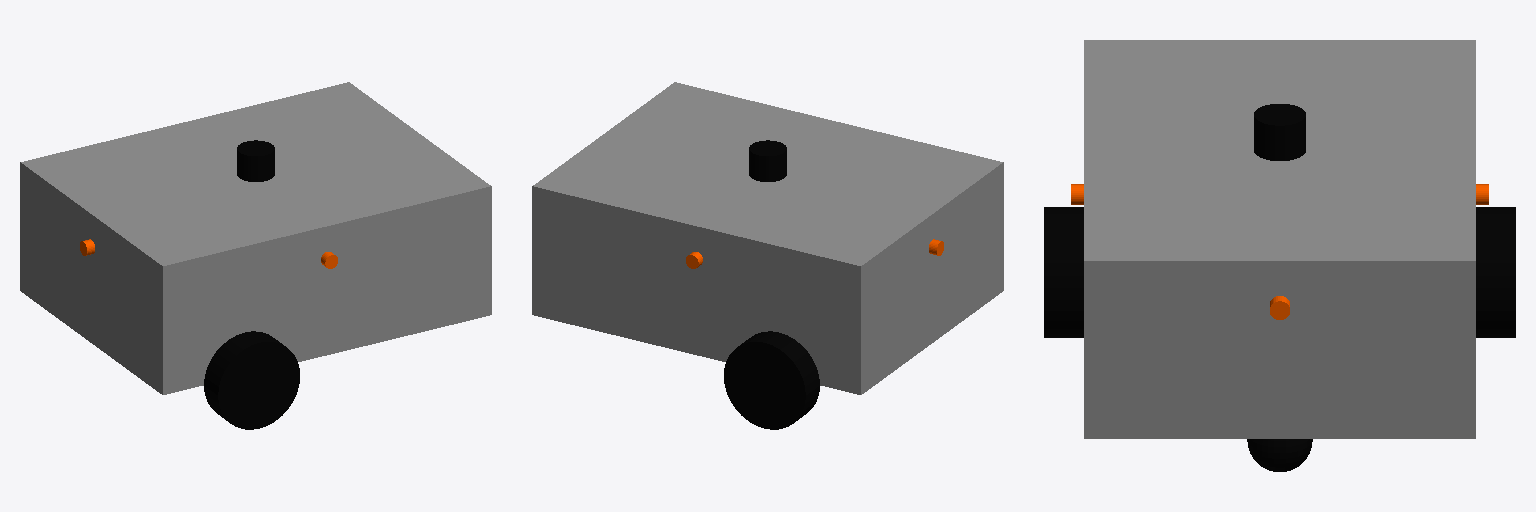
URDF robot description (ultrasonic_box_bot):
<?xml version="1.0" ?>
<!-- =================================================================================== -->
<!-- |    This document was autogenerated by xacro from ultrasonic_box_bot.urdf.xacro  | -->
<!-- |    EDITING THIS FILE BY HAND IS NOT RECOMMENDED                                 | -->
<!-- =================================================================================== -->
<robot name="ultrasonic_box_bot">
  <material name="grey">
    <color rgba="0.6 0.6 0.6 1.0"/>
  </material>
  <material name="black">
    <color rgba="0.05 0.05 0.05 1.0"/>
  </material>
  <material name="orange">
    <color rgba="1.0 0.4 0.0 1.0"/>
  </material>
  <!-- ================= BASE LINK ================= -->
  <link name="base_footprint"/>
  <joint name="base_footprint_joint" type="fixed">
    <parent link="base_footprint"/>
    <child link="base_link"/>
    <origin rpy="0 0 0" xyz="0 0 0.05"/>
  </joint>
  <link name="base_link">
    <visual>
      <origin rpy="0 0 0" xyz="0 0 0"/>
      <geometry>
        <box size="0.4 0.3 0.15"/>
      </geometry>
      <material name="grey"/>
    </visual>
    <collision>
      <origin rpy="0 0 0" xyz="0 0 0"/>
      <geometry>
        <box size="0.4 0.3 0.15"/>
      </geometry>
    </collision>
    <inertial>
      <mass value="5.0"/>
      <inertia ixx="0.046875" ixy="0.0" ixz="0.0" iyy="0.07604166666666667" iyz="0.0" izz="0.10416666666666667"/>
    </inertial>
  </link>
  <gazebo reference="base_link">
    <material>Gazebo/Grey</material>
  </gazebo>
  <link name="left_wheel_link">
    <visual>
      <origin rpy="1.5708 0 0" xyz="0 0 0"/>
      <geometry>
        <cylinder length="0.03" radius="0.05"/>
      </geometry>
      <material name="black"/>
    </visual>
    <collision>
      <origin rpy="1.5708 0 0" xyz="0 0 0"/>
      <geometry>
        <cylinder length="0.03" radius="0.05"/>
      </geometry>
    </collision>
    <inertial>
      <mass value="0.2"/>
      <inertia ixx="0.00014000000000000001" ixy="0.0" ixz="0.0" iyy="0.00014000000000000001" iyz="0.0" izz="0.00025000000000000006"/>
    </inertial>
  </link>
  <joint name="left_wheel_joint" type="continuous">
    <parent link="base_link"/>
    <child link="left_wheel_link"/>
    <origin rpy="0 0 0" xyz="-0.1 0.16499999999999998 -0.075"/>
    <axis xyz="0 1 0"/>
  </joint>
  <gazebo reference="left_wheel_link">
    <material>Gazebo/Black</material>
  </gazebo>
  <link name="right_wheel_link">
    <visual>
      <origin rpy="1.5708 0 0" xyz="0 0 0"/>
      <geometry>
        <cylinder length="0.03" radius="0.05"/>
      </geometry>
      <material name="black"/>
    </visual>
    <collision>
      <origin rpy="1.5708 0 0" xyz="0 0 0"/>
      <geometry>
        <cylinder length="0.03" radius="0.05"/>
      </geometry>
    </collision>
    <inertial>
      <mass value="0.2"/>
      <inertia ixx="0.00014000000000000001" ixy="0.0" ixz="0.0" iyy="0.00014000000000000001" iyz="0.0" izz="0.00025000000000000006"/>
    </inertial>
  </link>
  <joint name="right_wheel_joint" type="continuous">
    <parent link="base_link"/>
    <child link="right_wheel_link"/>
    <origin rpy="0 0 0" xyz="-0.1 -0.16499999999999998 -0.075"/>
    <axis xyz="0 1 0"/>
  </joint>
  <gazebo reference="right_wheel_link">
    <material>Gazebo/Black</material>
  </gazebo>
  <!-- Rear caster -->
  <link name="caster_wheel_link">
    <visual>
      <geometry>
        <sphere radius="0.025"/>
      </geometry>
      <material name="black"/>
    </visual>
    <collision>
      <geometry>
        <sphere radius="0.05"/>
      </geometry>
    </collision>
    <inertial>
      <mass value="0.05"/>
      <inertia ixx="0.0001" ixy="0" ixz="0" iyy="0.0001" iyz="0" izz="0.0001"/>
    </inertial>
  </link>
  <joint name="caster_wheel_joint" type="fixed">
    <parent link="base_link"/>
    <child link="caster_wheel_link"/>
    <origin rpy="0 0 0" xyz="0.17500000000000002 0 -0.08750000000000001"/>
  </joint>
  <gazebo reference="caster_wheel_link">
    <material>Gazebo/Black</material>
  </gazebo>
  <link name="us_front_link">
    <visual>
      <origin rpy="0 1.5708 0" xyz="0 0 0"/>
      <geometry>
        <cylinder length="0.01" radius="0.008"/>
      </geometry>
      <material name="orange"/>
    </visual>
    <collision>
      <origin rpy="0 1.5708 0" xyz="0 0 0"/>
      <geometry>
        <cylinder length="0.01" radius="0.008"/>
      </geometry>
    </collision>
    <inertial>
      <mass value="0.01"/>
      <inertia ixx="1e-6" ixy="0" ixz="0" iyy="1e-6" iyz="0" izz="1e-6"/>
    </inertial>
  </link>
  <joint name="us_front_joint" type="fixed">
    <parent link="base_link"/>
    <child link="us_front_link"/>
    <origin rpy="0 0 0" xyz="0.20500000000000002 0 0.0375"/>
  </joint>
  <gazebo reference="us_front_link">
    <material>Gazebo/Orange</material>
    <sensor name="us_front" type="gpu_lidar">
      <pose>0 0 0 0 0 0</pose>
      <topic>us_front</topic>
      <update_rate>10</update_rate>
      <always_on>true</always_on>
      <visualize>true</visualize>
      <lidar>
        <scan>
          <horizontal>
            <samples>5</samples>
            <resolution>1</resolution>
            <min_angle>-1.570795</min_angle>
            <max_angle>1.570795</max_angle>
          </horizontal>
          <vertical>
            <samples>1</samples>
            <resolution>1</resolution>
            <min_angle>0.0</min_angle>
            <max_angle>0.0</max_angle>
          </vertical>
        </scan>
        <range>
          <min>0.02</min>
          <max>7.0</max>
          <resolution>0.01</resolution>
        </range>
      </lidar>
    </sensor>
  </gazebo>
  <link name="us_back_link">
    <visual>
      <origin rpy="0 1.5708 0" xyz="0 0 0"/>
      <geometry>
        <cylinder length="0.01" radius="0.008"/>
      </geometry>
      <material name="orange"/>
    </visual>
    <collision>
      <origin rpy="0 1.5708 0" xyz="0 0 0"/>
      <geometry>
        <cylinder length="0.01" radius="0.008"/>
      </geometry>
    </collision>
    <inertial>
      <mass value="0.01"/>
      <inertia ixx="1e-6" ixy="0" ixz="0" iyy="1e-6" iyz="0" izz="1e-6"/>
    </inertial>
  </link>
  <joint name="us_back_joint" type="fixed">
    <parent link="base_link"/>
    <child link="us_back_link"/>
    <origin rpy="0 0 3.14159" xyz="-0.20500000000000002 0 0.0375"/>
  </joint>
  <gazebo reference="us_back_link">
    <material>Gazebo/Orange</material>
    <sensor name="us_back" type="gpu_lidar">
      <pose>0 0 0 0 0 0</pose>
      <topic>us_back</topic>
      <update_rate>10</update_rate>
      <always_on>true</always_on>
      <visualize>true</visualize>
      <lidar>
        <scan>
          <horizontal>
            <samples>5</samples>
            <resolution>1</resolution>
            <min_angle>-1.570795</min_angle>
            <max_angle>1.570795</max_angle>
          </horizontal>
          <vertical>
            <samples>1</samples>
            <resolution>1</resolution>
            <min_angle>0.0</min_angle>
            <max_angle>0.0</max_angle>
          </vertical>
        </scan>
        <range>
          <min>0.02</min>
          <max>7.0</max>
          <resolution>0.01</resolution>
        </range>
      </lidar>
    </sensor>
  </gazebo>
  <link name="us_left_link">
    <visual>
      <origin rpy="0 1.5708 0" xyz="0 0 0"/>
      <geometry>
        <cylinder length="0.01" radius="0.008"/>
      </geometry>
      <material name="orange"/>
    </visual>
    <collision>
      <origin rpy="0 1.5708 0" xyz="0 0 0"/>
      <geometry>
        <cylinder length="0.01" radius="0.008"/>
      </geometry>
    </collision>
    <inertial>
      <mass value="0.01"/>
      <inertia ixx="1e-6" ixy="0" ixz="0" iyy="1e-6" iyz="0" izz="1e-6"/>
    </inertial>
  </link>
  <joint name="us_left_joint" type="fixed">
    <parent link="base_link"/>
    <child link="us_left_link"/>
    <origin rpy="0 0 1.5708" xyz="0 0.155 0.0375"/>
  </joint>
  <gazebo reference="us_left_link">
    <material>Gazebo/Orange</material>
    <sensor name="us_left" type="gpu_lidar">
      <pose>0 0 0 0 0 0</pose>
      <topic>us_left</topic>
      <update_rate>10</update_rate>
      <always_on>true</always_on>
      <visualize>true</visualize>
      <lidar>
        <scan>
          <horizontal>
            <samples>5</samples>
            <resolution>1</resolution>
            <min_angle>-1.570795</min_angle>
            <max_angle>1.570795</max_angle>
          </horizontal>
          <vertical>
            <samples>1</samples>
            <resolution>1</resolution>
            <min_angle>0.0</min_angle>
            <max_angle>0.0</max_angle>
          </vertical>
        </scan>
        <range>
          <min>0.02</min>
          <max>7.0</max>
          <resolution>0.01</resolution>
        </range>
      </lidar>
    </sensor>
  </gazebo>
  <link name="us_right_link">
    <visual>
      <origin rpy="0 1.5708 0" xyz="0 0 0"/>
      <geometry>
        <cylinder length="0.01" radius="0.008"/>
      </geometry>
      <material name="orange"/>
    </visual>
    <collision>
      <origin rpy="0 1.5708 0" xyz="0 0 0"/>
      <geometry>
        <cylinder length="0.01" radius="0.008"/>
      </geometry>
    </collision>
    <inertial>
      <mass value="0.01"/>
      <inertia ixx="1e-6" ixy="0" ixz="0" iyy="1e-6" iyz="0" izz="1e-6"/>
    </inertial>
  </link>
  <joint name="us_right_joint" type="fixed">
    <parent link="base_link"/>
    <child link="us_right_link"/>
    <origin rpy="0 0 -1.5708" xyz="0 -0.155 0.0375"/>
  </joint>
  <gazebo reference="us_right_link">
    <material>Gazebo/Orange</material>
    <sensor name="us_right" type="gpu_lidar">
      <pose>0 0 0 0 0 0</pose>
      <topic>us_right</topic>
      <update_rate>10</update_rate>
      <always_on>true</always_on>
      <visualize>true</visualize>
      <lidar>
        <scan>
          <horizontal>
            <samples>5</samples>
            <resolution>1</resolution>
            <min_angle>-1.570795</min_angle>
            <max_angle>1.570795</max_angle>
          </horizontal>
          <vertical>
            <samples>1</samples>
            <resolution>1</resolution>
            <min_angle>0.0</min_angle>
            <max_angle>0.0</max_angle>
          </vertical>
        </scan>
        <range>
          <min>0.02</min>
          <max>7.0</max>
          <resolution>0.01</resolution>
        </range>
      </lidar>
    </sensor>
  </gazebo>
  <link name="lidar_link">
    <visual>
      <origin rpy="0 0 0" xyz="0 0 0"/>
      <geometry>
        <cylinder length="0.03" radius="0.02"/>
      </geometry>
      <material name="black"/>
    </visual>
    <collision>
      <origin rpy="0 0 0" xyz="0 0 0"/>
      <geometry>
        <cylinder length="0.03" radius="0.02"/>
      </geometry>
    </collision>
    <inertial>
      <mass value="0.05"/>
      <inertia ixx="1e-5" ixy="0" ixz="0" iyy="1e-5" iyz="0" izz="1e-5"/>
    </inertial>
  </link>
  <joint name="lidar_joint" type="fixed">
    <parent link="base_link"/>
    <child link="lidar_link"/>
    <origin rpy="0 0 0" xyz="0 0 0.09"/>
  </joint>
  <gazebo reference="lidar_link">
    <material>Gazebo/Black</material>
    <sensor name="lidar" type="gpu_lidar">
      <pose>0 0 0 0 0 0</pose>
      <topic>scan</topic>
      <gz_frame_id>lidar_link</gz_frame_id>
      <update_rate>10</update_rate>
      <always_on>true</always_on>
      <visualize>true</visualize>
      <lidar>
        <scan>
          <horizontal>
            <samples>361</samples>
            <resolution>1</resolution>
            <min_angle>-3.14159</min_angle>
            <max_angle>3.14159</max_angle>
          </horizontal>
          <vertical>
            <samples>1</samples>
            <resolution>1</resolution>
            <min_angle>0.0</min_angle>
            <max_angle>0.0</max_angle>
          </vertical>
        </scan>
        <range>
          <min>0.08</min>
          <max>10.0</max>
          <resolution>0.01</resolution>
        </range>
      </lidar>
    </sensor>
  </gazebo>
  <!-- ================= GAZEBO DIFF DRIVE PLUGIN ================= -->
  <gazebo>
    <plugin filename="gz-sim-diff-drive-system" name="gz::sim::systems::DiffDrive">
      <left_joint>left_wheel_joint</left_joint>
      <right_joint>right_wheel_joint</right_joint>
      <wheel_separation>0.32999999999999996</wheel_separation>
      <wheel_radius>0.05</wheel_radius>
      <odom_publish_frequency>20</odom_publish_frequency>
      <topic>cmd_vel_safe</topic>
      <odom_topic>odom</odom_topic>
      <tf_topic>tf</tf_topic>
      <frame_id>odom</frame_id>
      <child_frame_id>base_footprint</child_frame_id>
    </plugin>
    <plugin filename="gz-sim-joint-state-publisher-system" name="gz::sim::systems::JointStatePublisher">
    </plugin>
  </gazebo>
</robot>

--- What the picture shows (computed from the rendered views, not written in the file) ---
3 views of the same robot in one strip: view 1: azimuth 30°, elevation 25°; view 2: azimuth 150°, elevation 25°; view 3: azimuth 270°, elevation 25° (orthographic).
Model ultrasonic_box_bot with 10 links and 9 joints (2 continuous, 7 fixed), rooted at base_footprint, posed every joint at zero.
Visible links, largest first — view 1: base_link, right_wheel_link, lidar_link; view 2: base_link, left_wheel_link, lidar_link; view 3: base_link, left_wheel_link, right_wheel_link, lidar_link, caster_wheel_link.
Link boxes in pixels (x1=…): base_link: x1=20, y1=82, x2=491, y2=394; right_wheel_link: x1=204, y1=331, x2=299, y2=429; lidar_link: x1=237, y1=140, x2=274, y2=181; base_link: x1=532, y1=82, x2=1003, y2=394; left_wheel_link: x1=724, y1=331, x2=819, y2=429; lidar_link: x1=749, y1=140, x2=786, y2=181; base_link: x1=1084, y1=40, x2=1475, y2=438; left_wheel_link: x1=1476, y1=207, x2=1515, y2=337; right_wheel_link: x1=1044, y1=207, x2=1083, y2=337; lidar_link: x1=1254, y1=104, x2=1305, y2=160; caster_wheel_link: x1=1247, y1=439, x2=1312, y2=471.
Size in the robot's own frame: 0.42 by 0.36 by 0.23 metres.
Geometry: primitives only (box / cylinder / sphere), no mesh files.
